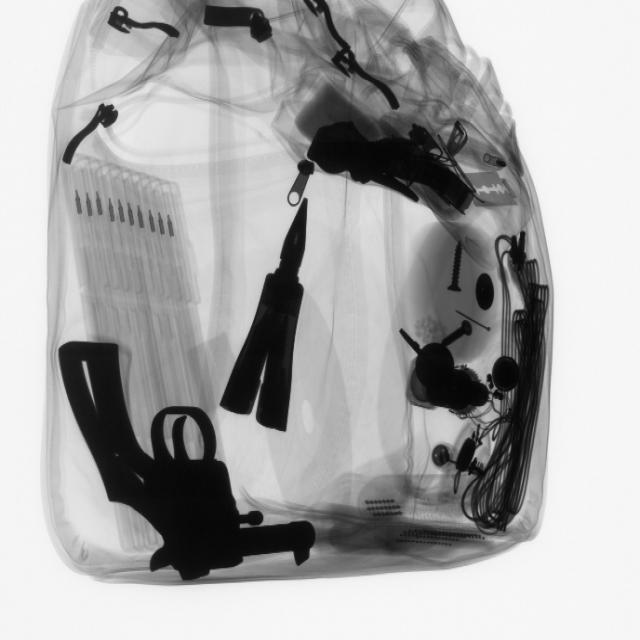BLADE: (459, 163, 518, 212)
GUN: (51, 340, 318, 575)
SCREW: (438, 230, 477, 300)
